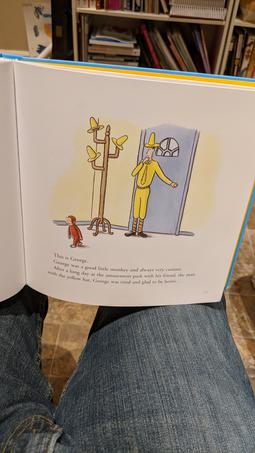text block: (30, 246, 204, 289)
